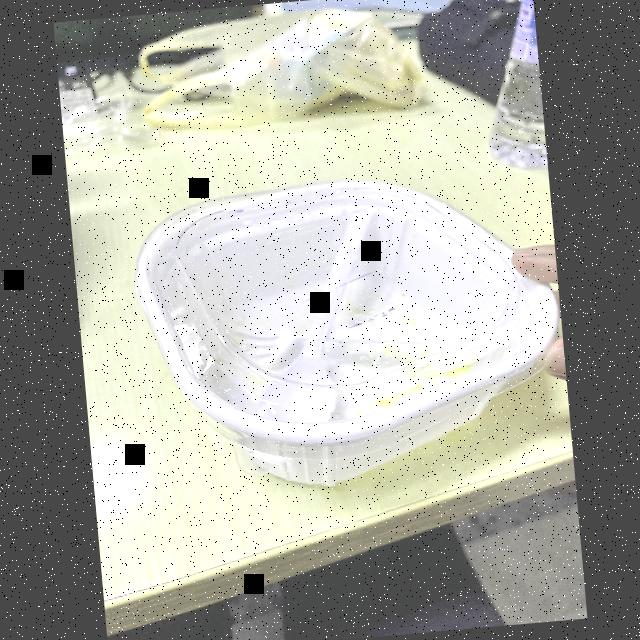plastic_box: (124, 147, 574, 514)
